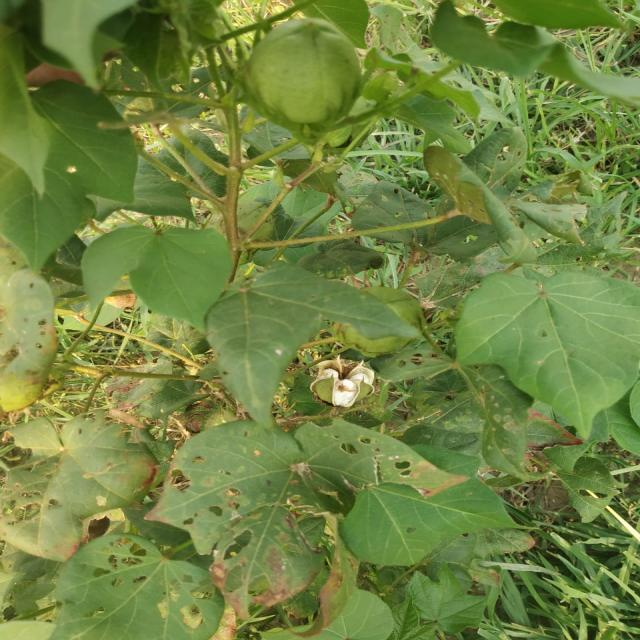Early Boll: (245, 9, 369, 135)
Split Cotton Boll: (311, 356, 375, 406)
